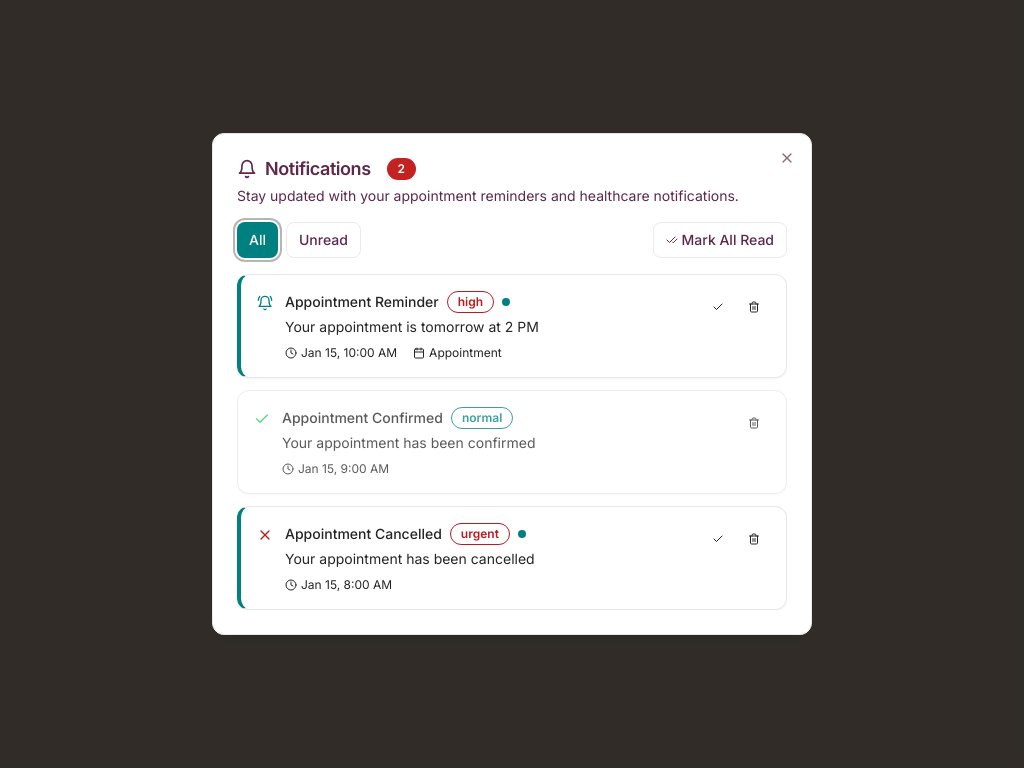
NotificationCenter › Filtering › should switch back to all notifications
The image size is (1024, 768).
What coordinates should you click on to do the following:
click the button "Unread"
I would click on:
 (323, 240)
Its box is [286,222,361,258].
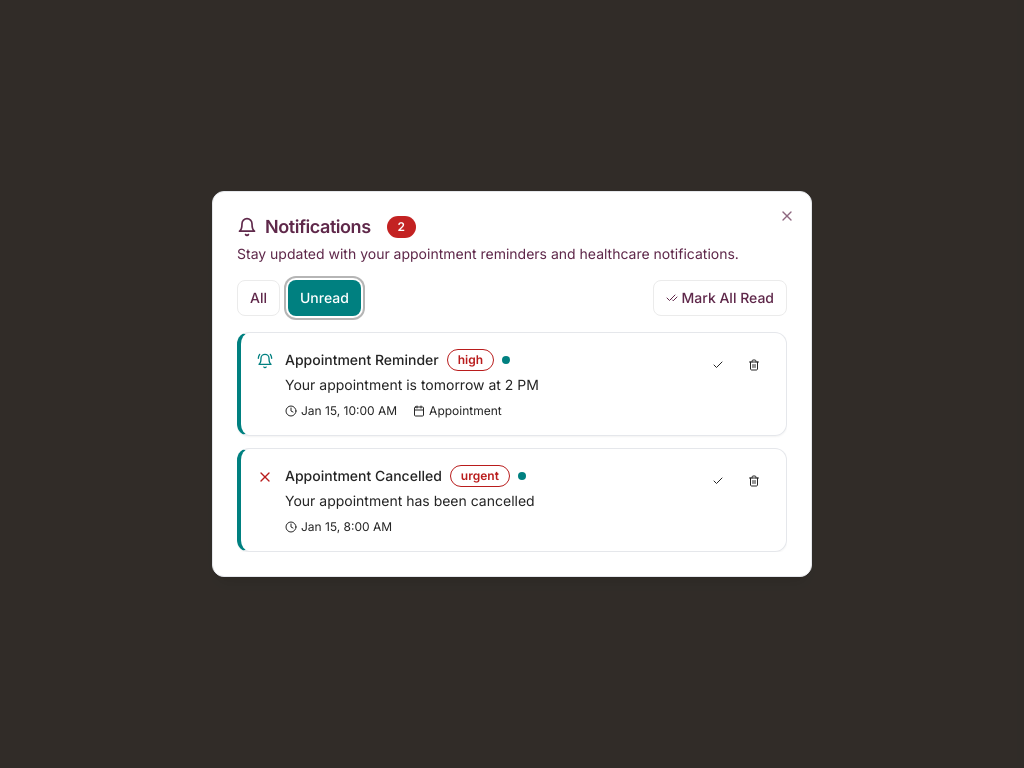
What coordinates should you click on to do the following:
click the button "All"
I would click on:
 (258, 298)
Its box is [237,280,280,316].
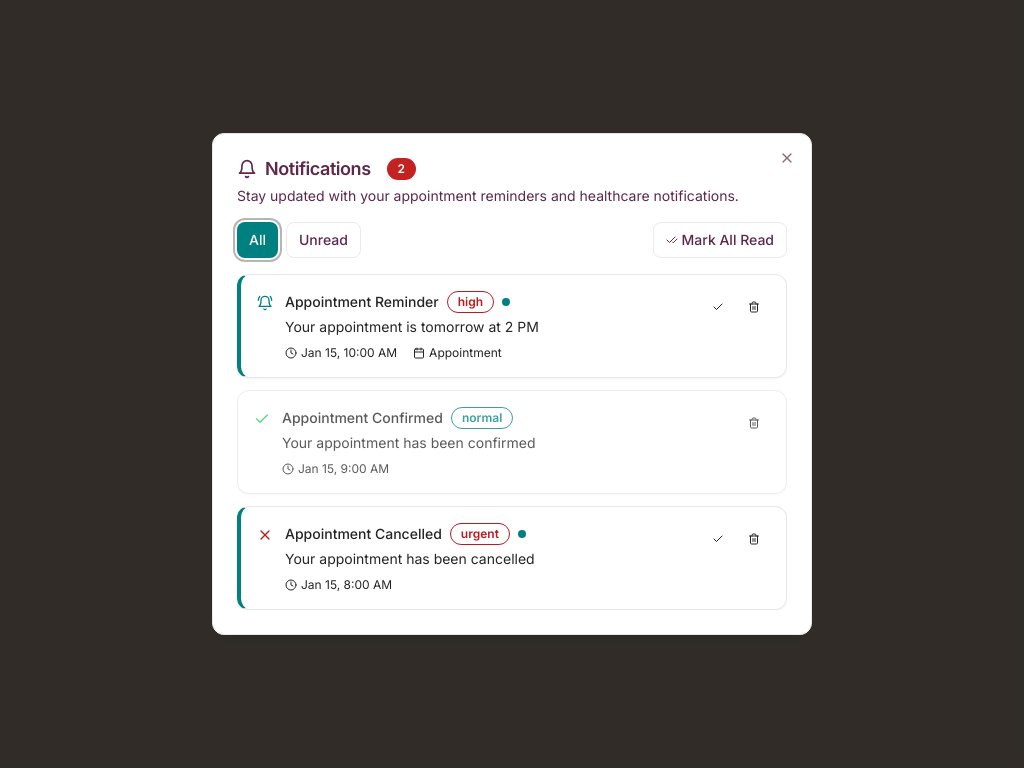
Expected: the heading "Appointment Reminder" is shown, [285,292,439,312]
Expected: the heading "Appointment Confirmed" is shown, [282,408,443,428]
